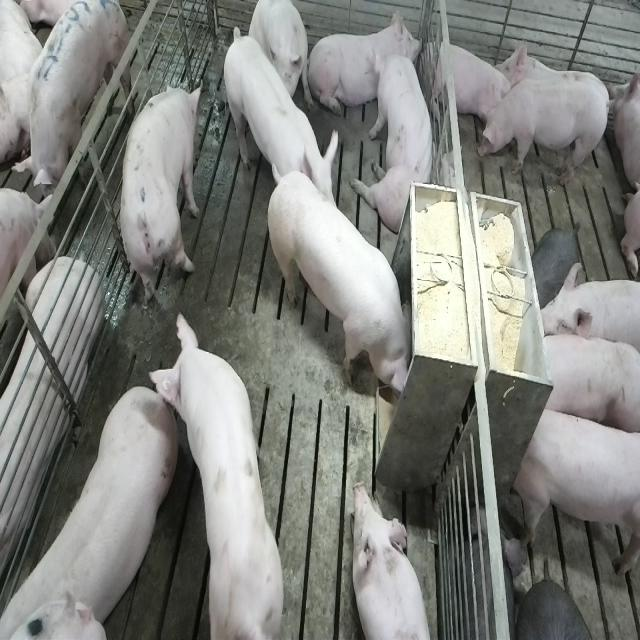Feeding: (271, 170, 421, 404)
Sitting: (357, 54, 439, 234)
Standing: (5, 379, 182, 635), (154, 313, 292, 637), (14, 0, 130, 205), (512, 398, 638, 577), (226, 28, 342, 218), (118, 79, 204, 308), (478, 80, 612, 189), (533, 328, 637, 434), (533, 262, 636, 366)
Sternal_lying: (0, 240, 101, 586), (350, 482, 433, 640), (310, 10, 427, 120), (428, 33, 510, 133)
